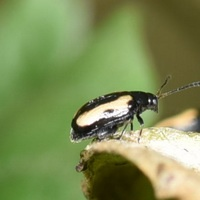insect: (70, 76, 199, 141)
